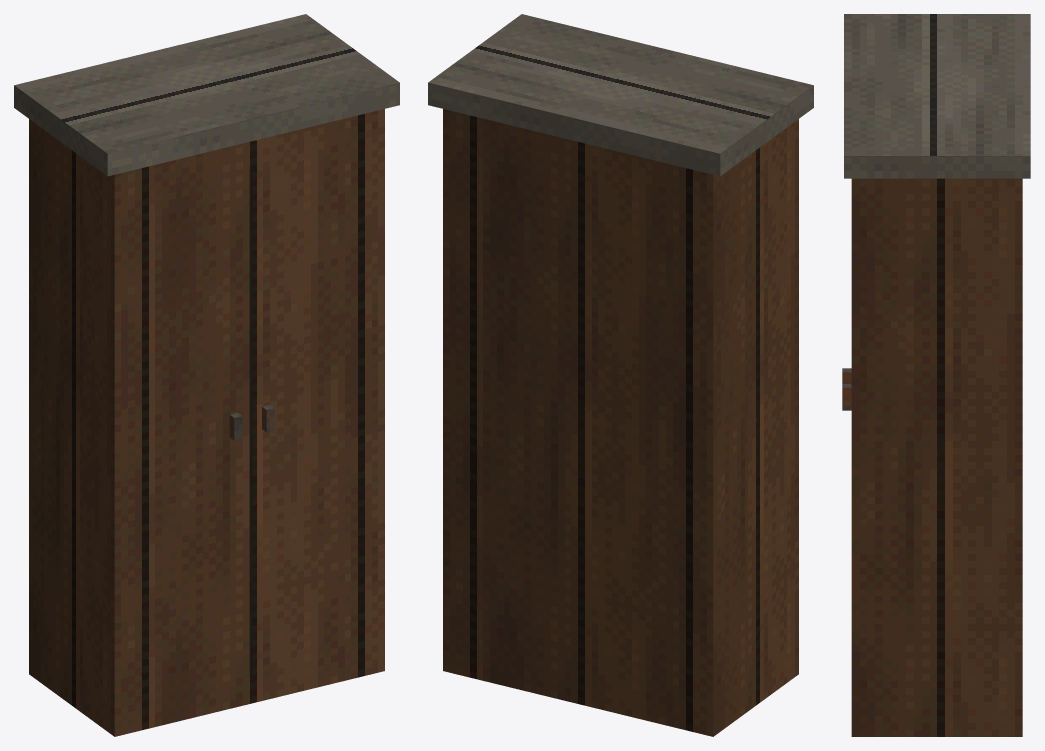
Rendered from armario.obj.
The picture shows the model from 3 angles, left to right: view 1: azimuth 30°, elevation 25°; view 2: azimuth 150°, elevation 25°; view 3: azimuth 270°, elevation 25°; orthographic projection.
Visible parts, largest first — view 1: armario; view 2: armario; view 3: armario.
Boxes of the visible parts, left/top/right/bottom form: armario: left=14, top=14, right=399, bottom=736; armario: left=428, top=14, right=813, bottom=736; armario: left=842, top=14, right=1030, bottom=736.
Bounding box in the file's own units: 1.08 × 2.08 × 0.605.
Materials: 4 (4 with a texture image).
